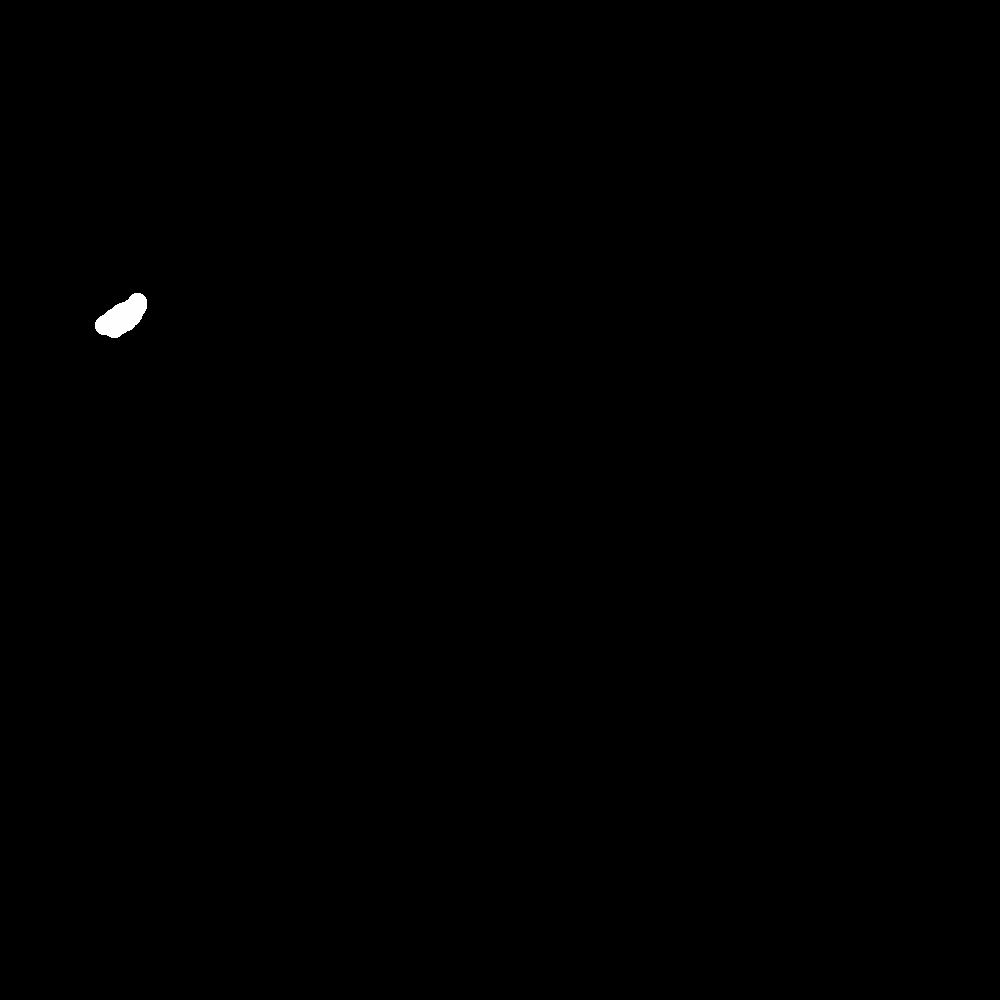illegal: (101, 250, 174, 335)
